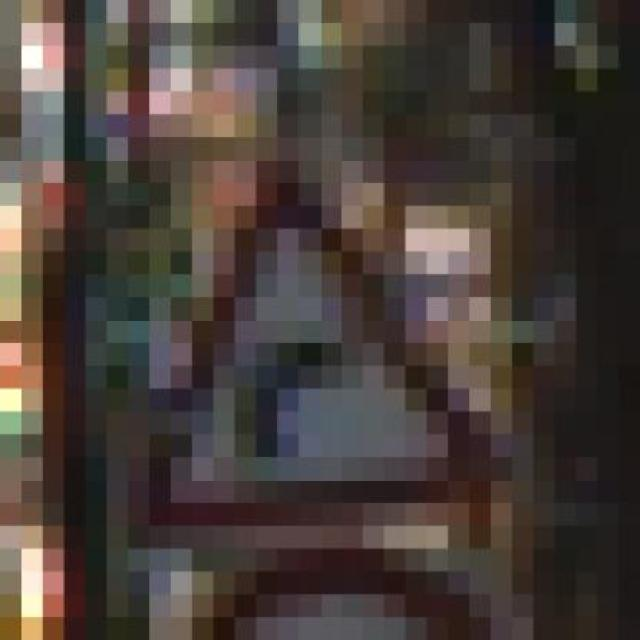Dangerous Rright Curve Ahead: (120, 133, 482, 569)
